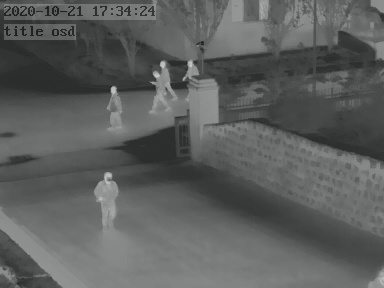person: (94, 169, 120, 230), (150, 61, 177, 111), (106, 84, 124, 129), (180, 58, 198, 84)
